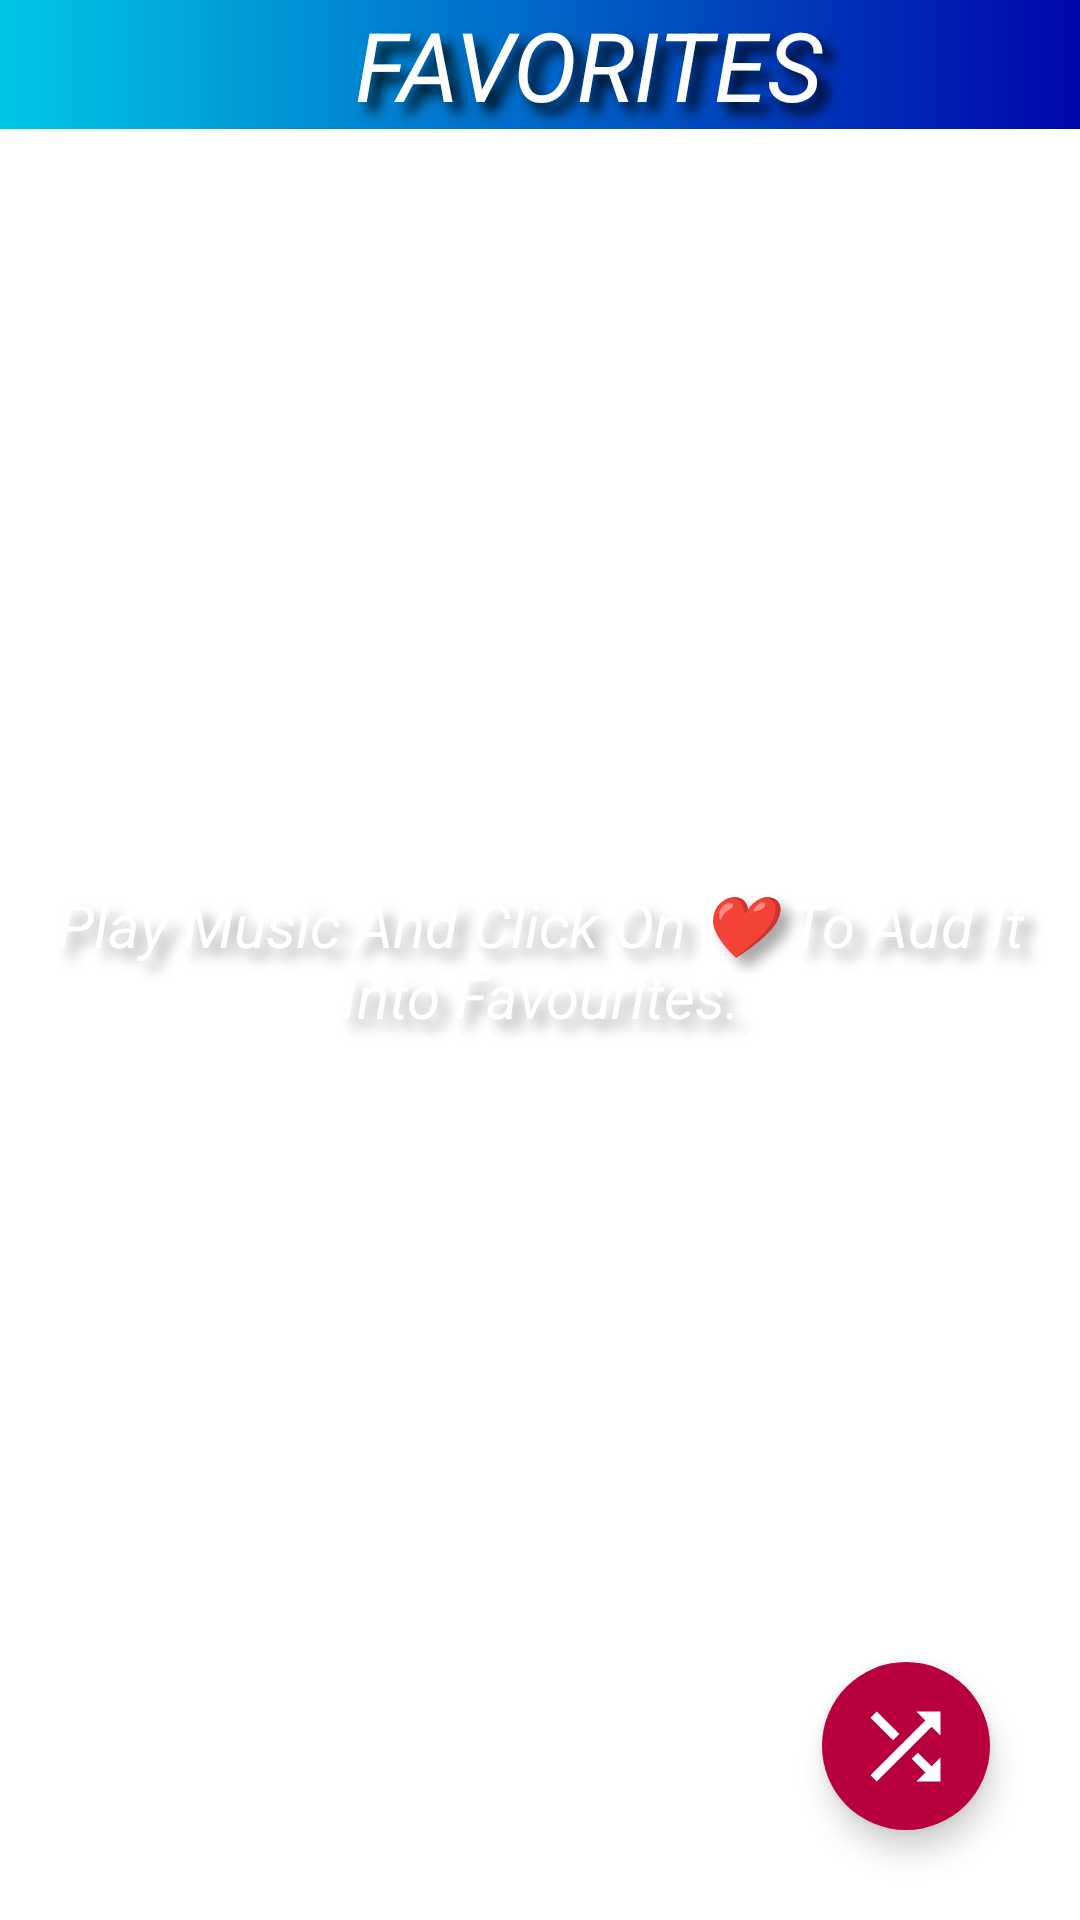

Icons on this 1080x1920 Android screen, each with its box as BBox(x1, y1, x2, y2):
shuffle: BBox(822, 1662, 990, 1830)
